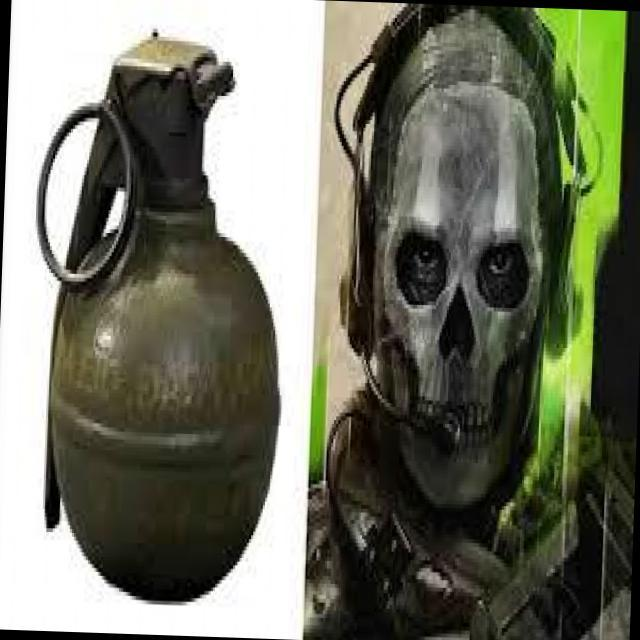grenade: (14, 48, 294, 610)
